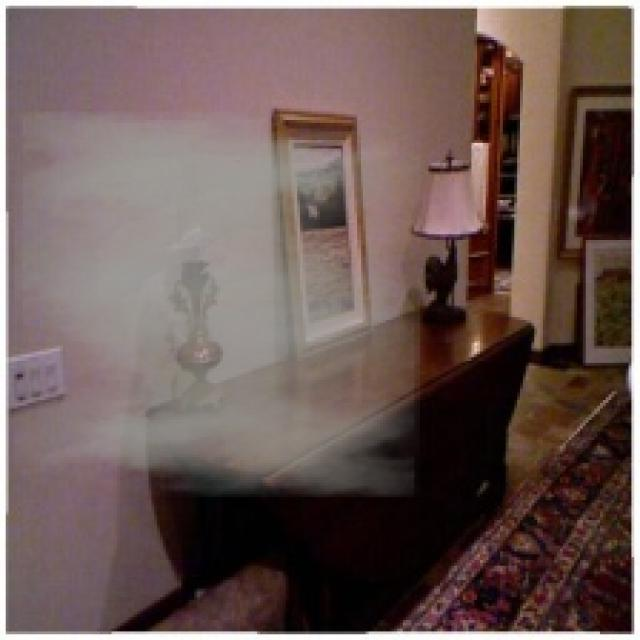smoke: (14, 112, 420, 497)
